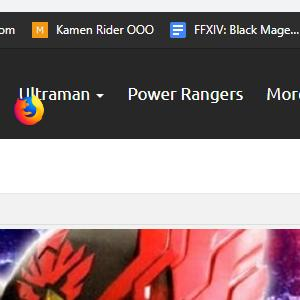firefox: (14, 94, 44, 126)
